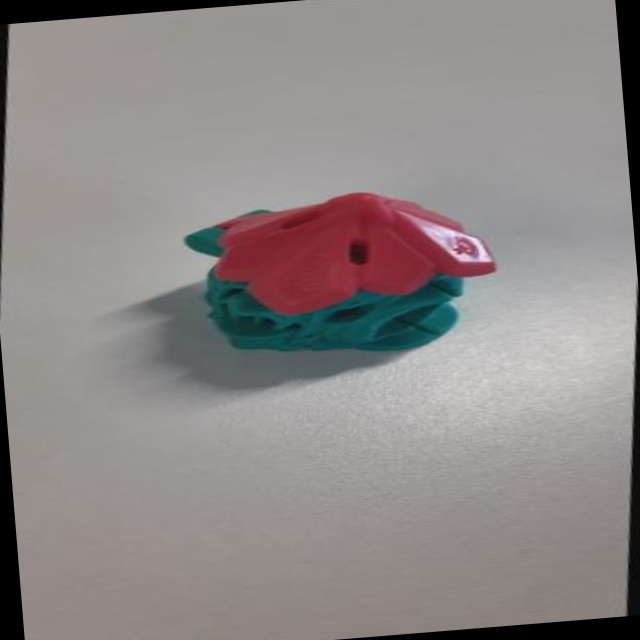House: (158, 173, 526, 389)
